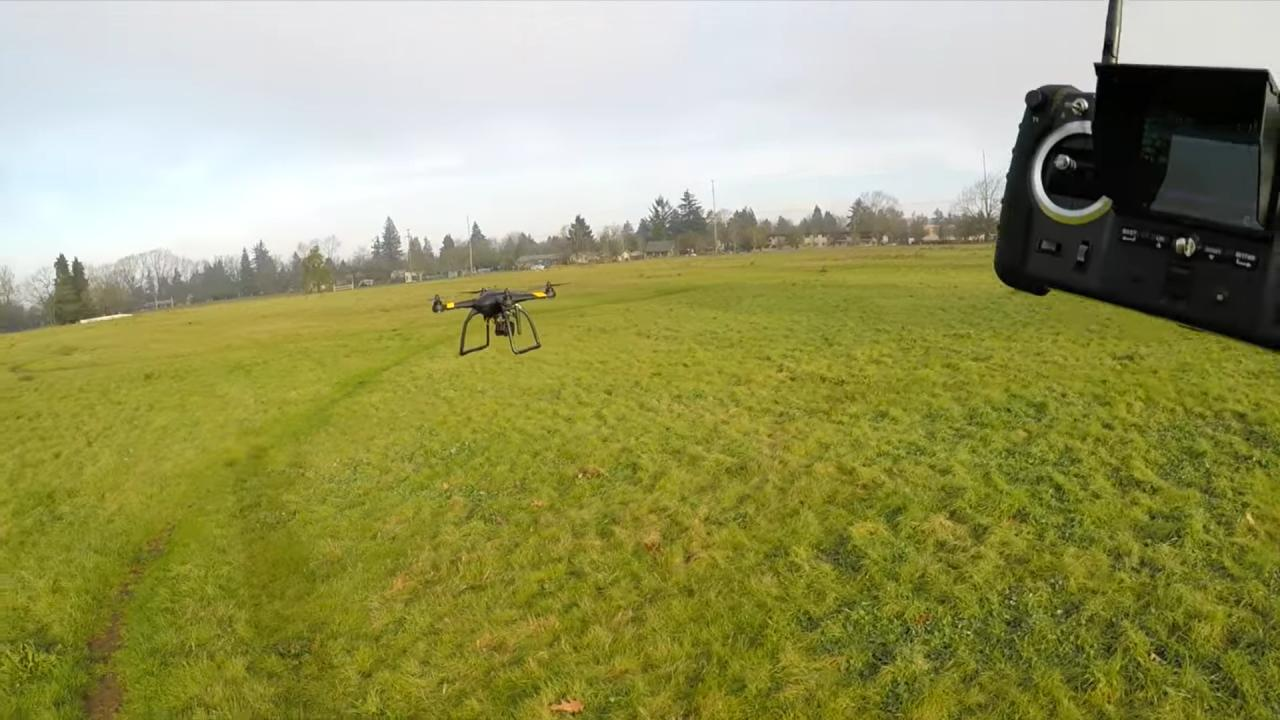Drone: (423, 261, 575, 368)
